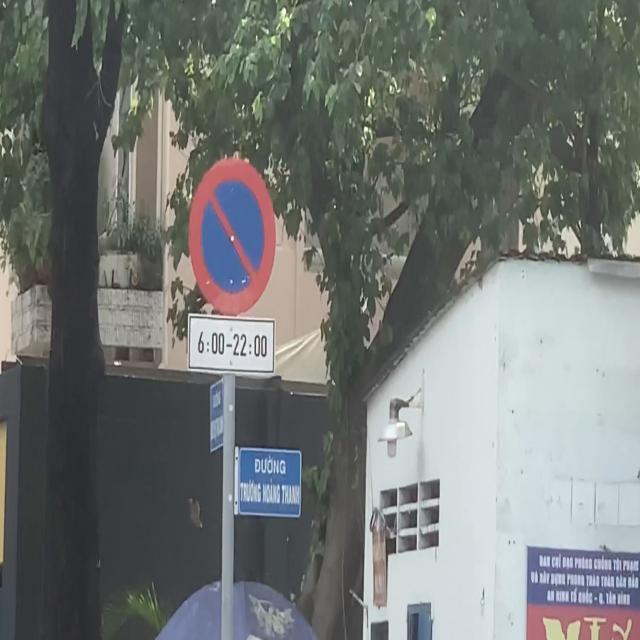Cam do: (188, 158, 276, 316)
